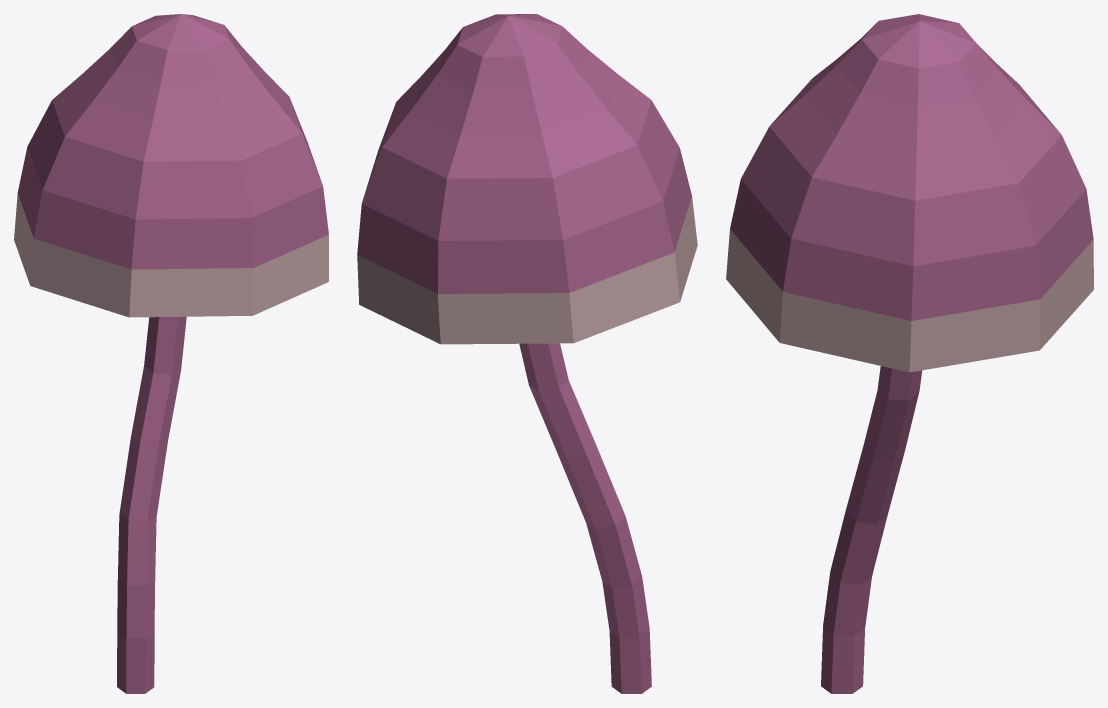
File: Mushroom_Purple_2.fbx
3 renders of one model, left to right at view 1: azimuth 30°, elevation 25°; view 2: azimuth 150°, elevation 25°; view 3: azimuth 270°, elevation 25°, orthographic. The views are drawn at different scales.
Visible parts, largest first — view 1: Cylinder.004; view 2: Cylinder.004; view 3: Cylinder.004.
Boxes of the visible parts, x1=… form: Cylinder.004: x1=14, y1=14, x2=328, y2=693; Cylinder.004: x1=357, y1=14, x2=697, y2=693; Cylinder.004: x1=726, y1=14, x2=1093, y2=693.
Size of the model in its own units: 6.18 by 13.1 by 6.16.
